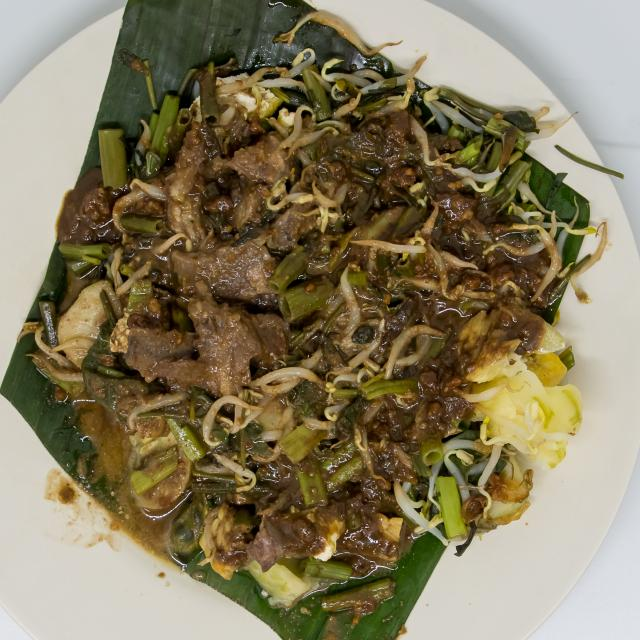Rujak-Cingur: (49, 46, 584, 578)
